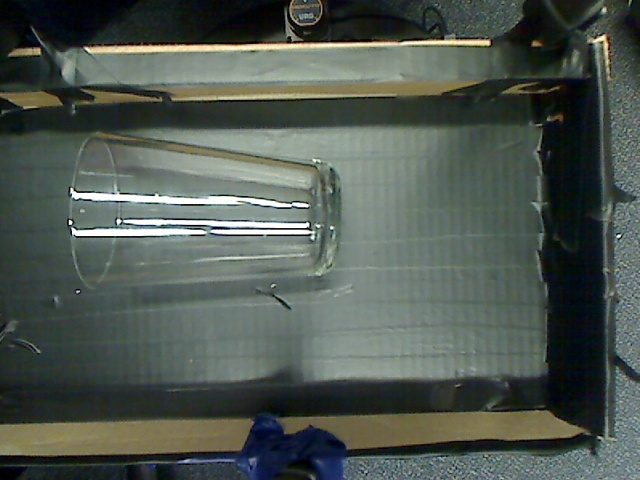cup: (38, 118, 363, 313)
